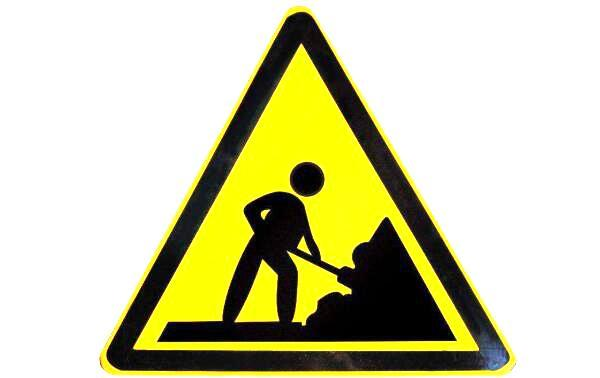sign: (102, 2, 520, 375)
